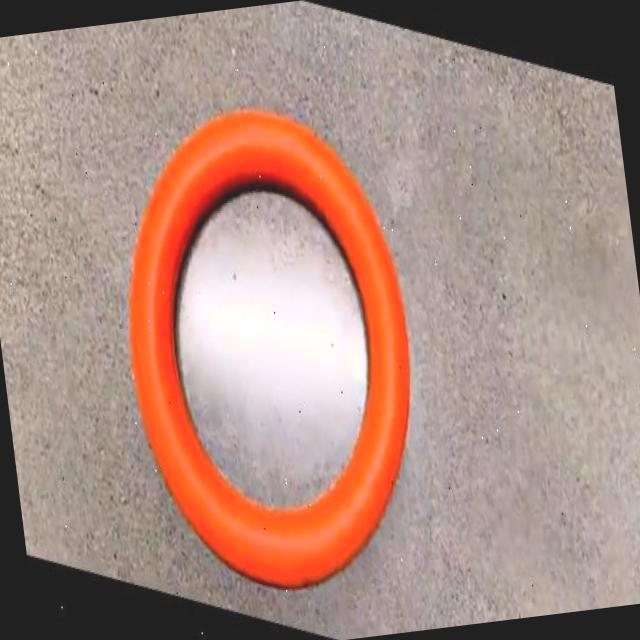note: (129, 110, 408, 586)
